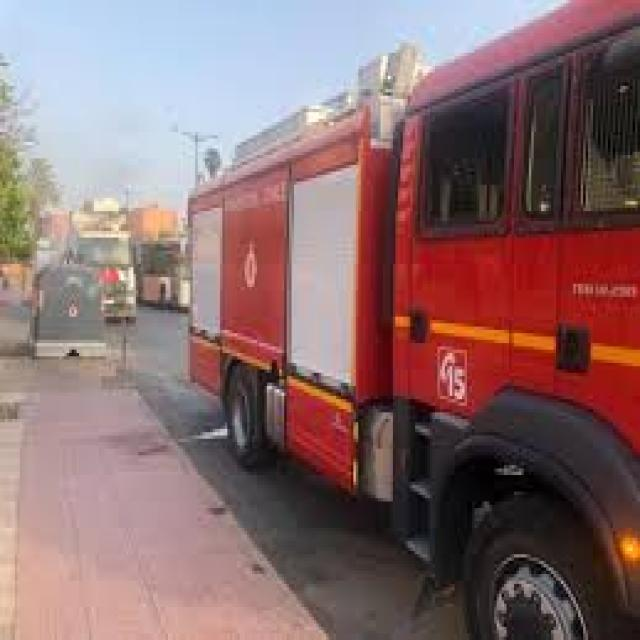pompier: (187, 27, 638, 627)
